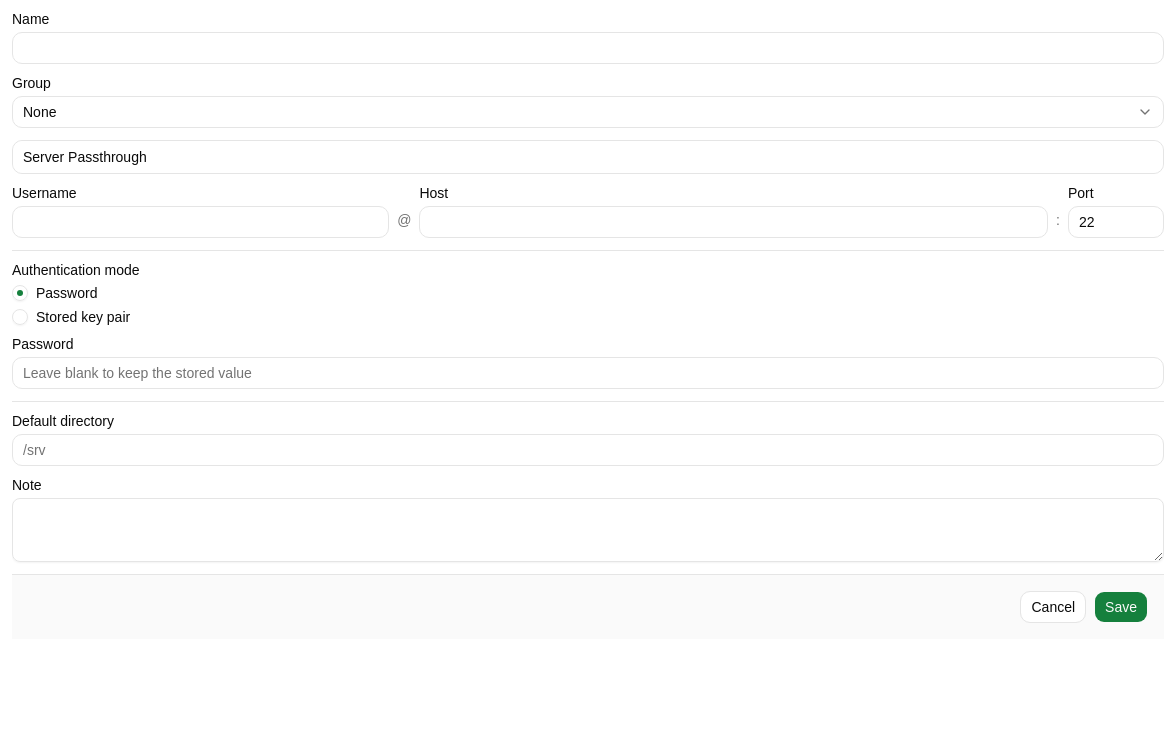
Test: SSHForm › renders proxy-username @ proxy-host : proxy-port as one inline address row
Click the button "Server Passthrough": (85, 157) [13,141,1163,173]
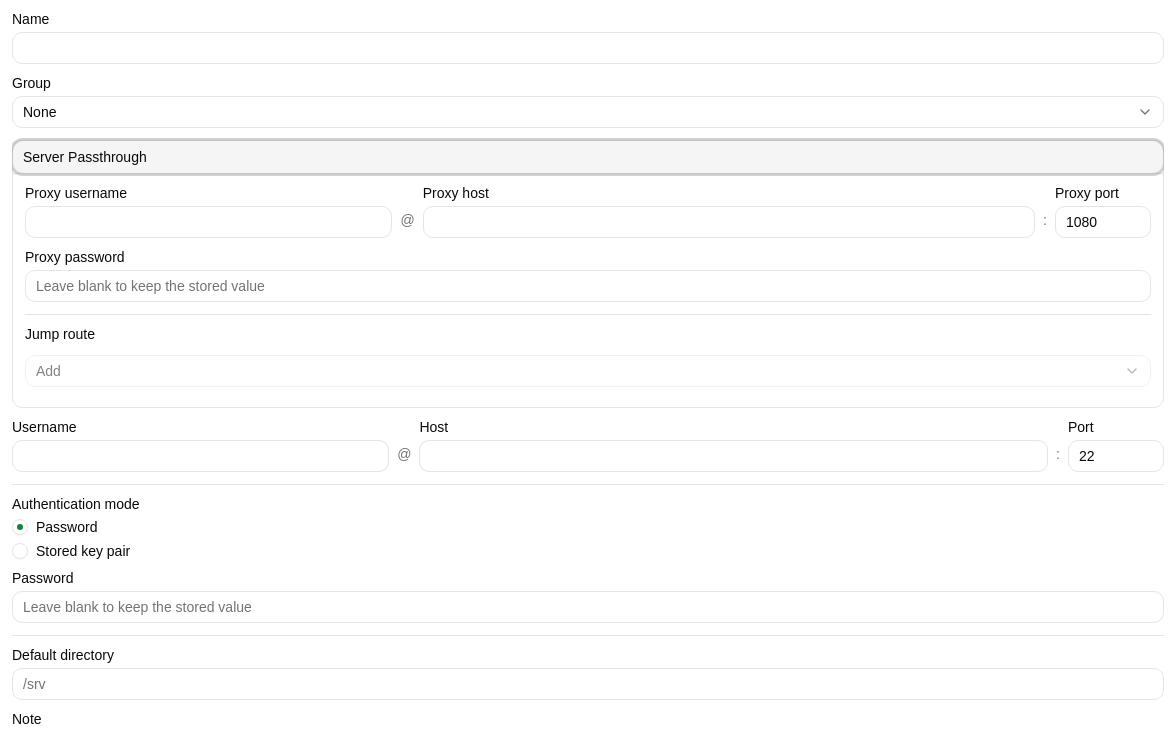
Expected: the element labelled "Proxy username" is shown, [25,186,1151,238]
Expected: the text "@" below "Proxy host" is shown, [400,212,415,228]
Expected: the text ":" below "Proxy port" is shown, [1043,212,1047,228]
